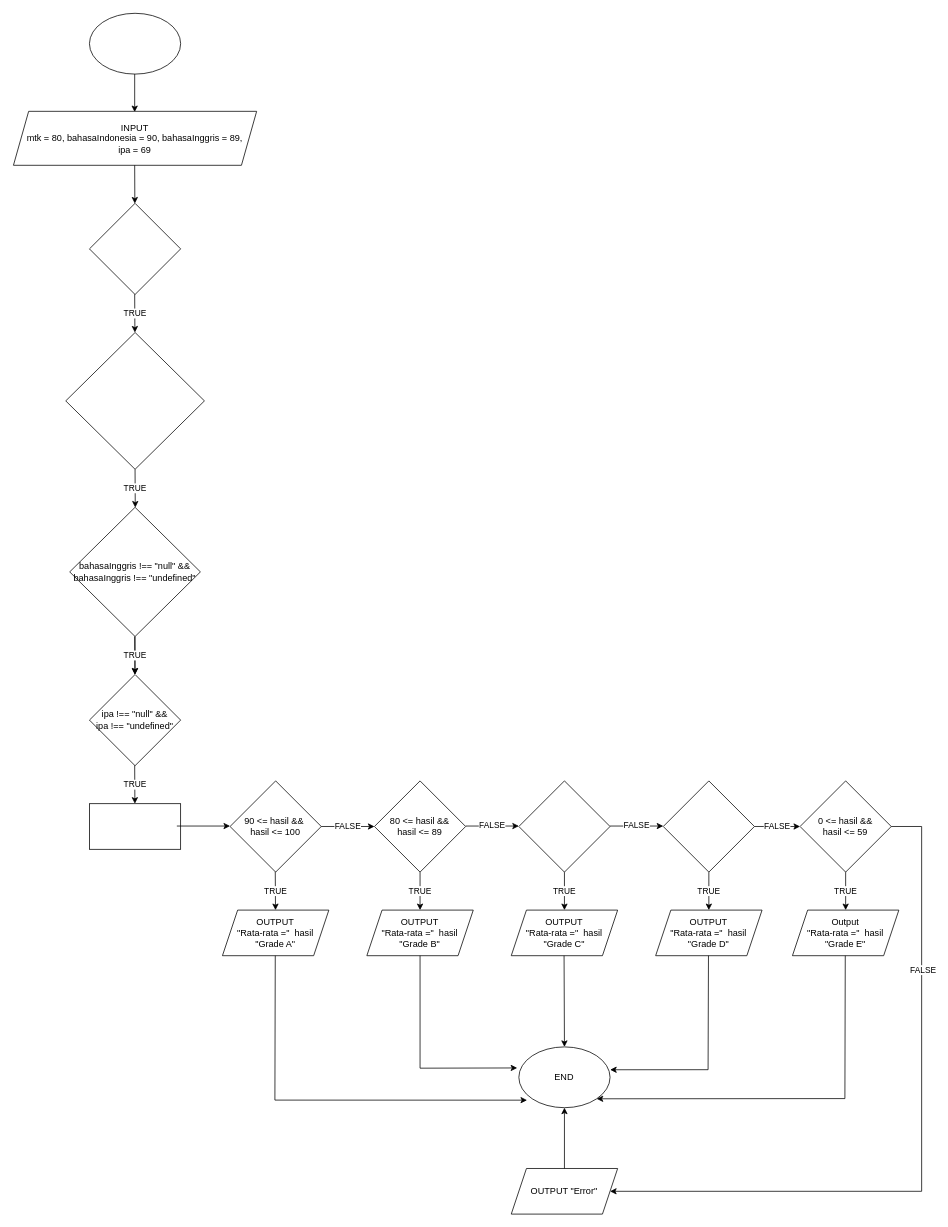
Some shapes in this 948 by 1227 pixel diagram are drawn without their labels. Here are the shapes that lost their labels. From the top down, the box of each, then its label:
(89, 13, 181, 74): START
(89, 203, 181, 294): mtk !== "null" && mtk !== "undefined"
(65, 332, 204, 469): bahasaIndonesia !== "null" && bahasaIndonesia !== "undefined"
(89, 803, 181, 849): hasil = mtk + bahasaIndonesia + bahasaInggris + ipa
(518, 780, 610, 872): 70 <= hasil && hasil <= 79
(662, 780, 754, 872): 60 <= hasil && hasil <= 69
